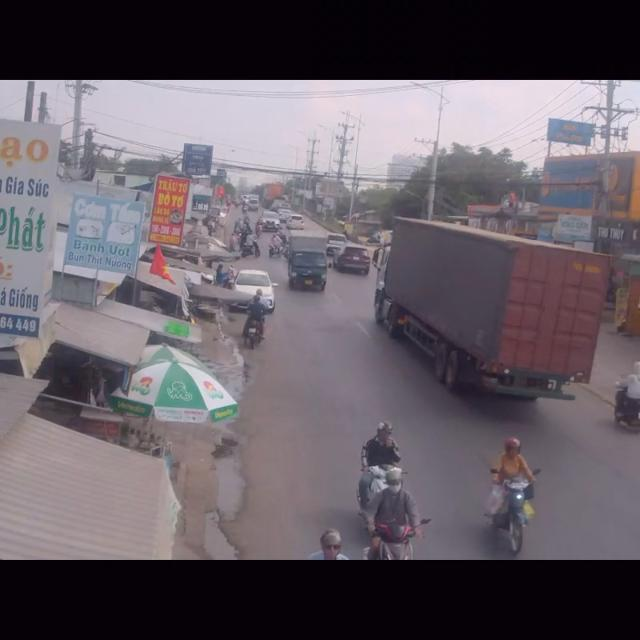motorbike: (482, 435, 536, 558), (369, 477, 420, 561), (361, 424, 396, 516), (613, 363, 640, 430), (243, 294, 265, 350)
truck: (377, 217, 602, 409), (285, 229, 331, 295)
